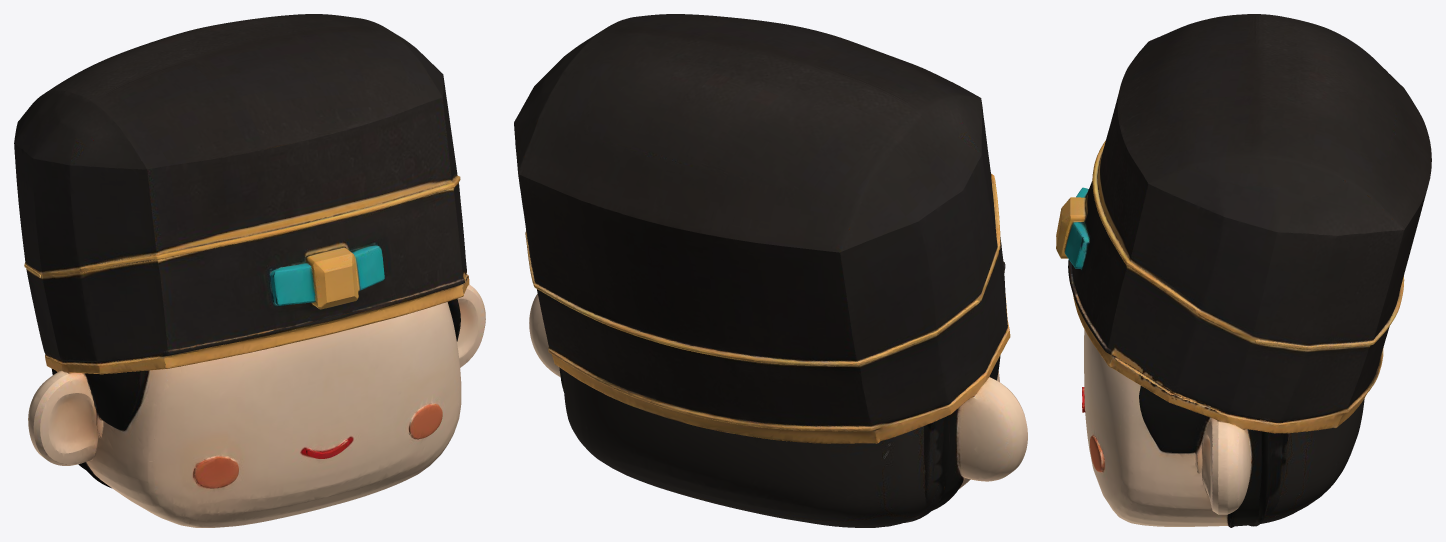
Rendered from Head.glb.
The picture shows the model from 3 angles, left to right: view 1: azimuth 30°, elevation 25°; view 2: azimuth 150°, elevation 25°; view 3: azimuth 270°, elevation 25°; orthographic projection. The views are drawn at different scales.
Visible parts, largest first — view 1: model.001; view 2: model.001; view 3: model.001.
Part boxes in pixels (x1,y1,x2,y2): model.001: (14,14,485,527); model.001: (514,14,1027,527); model.001: (1056,14,1431,527).
Size of the model in its own units: 1.9 by 1.69 by 1.38.
Materials: 1 (1 with a texture image).
